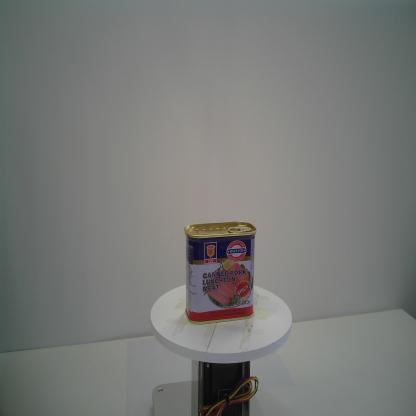Canned Food: (182, 219, 258, 327)
